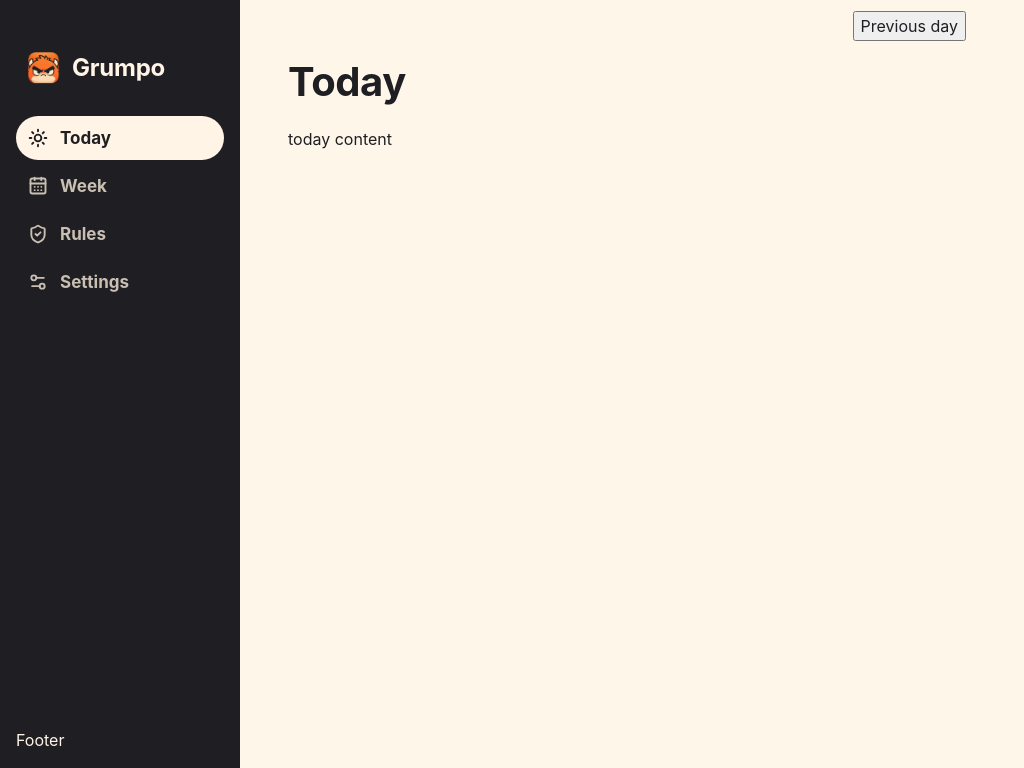
it: renders per screen actions in the toolbar and removes them when the screen changes
Expected: the button "Previous day" is shown, [853, 11, 966, 41]
Click the button "Week".
click(120, 186)  # box [16, 164, 224, 208]
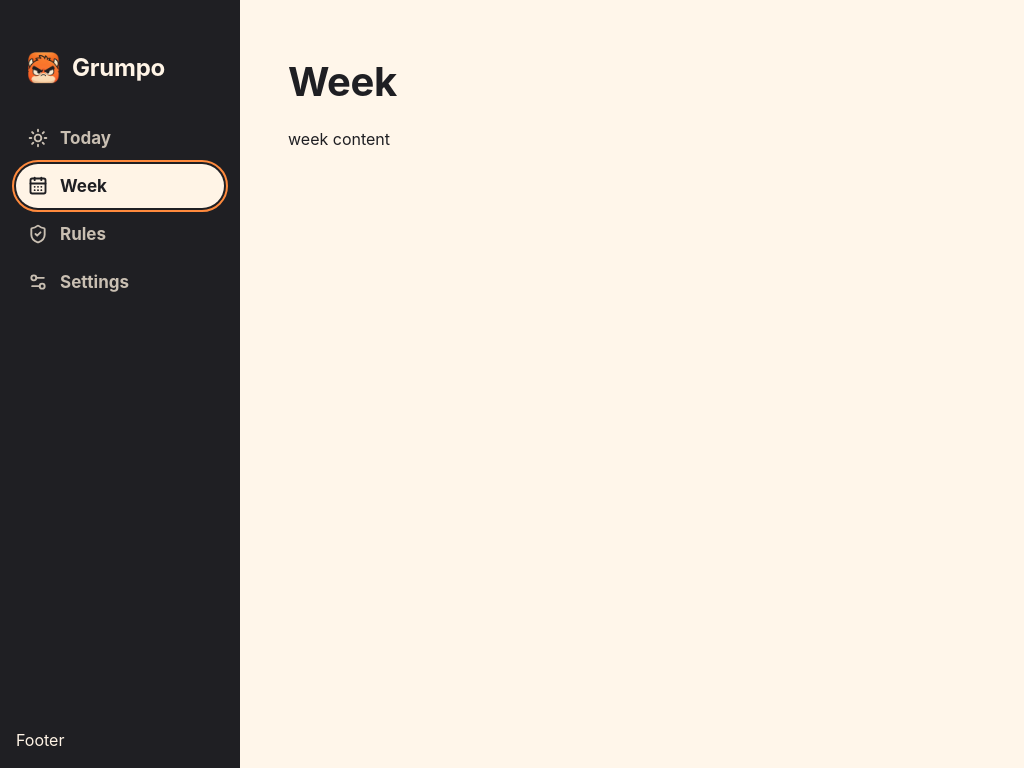
Now the button "Previous day" is gone
